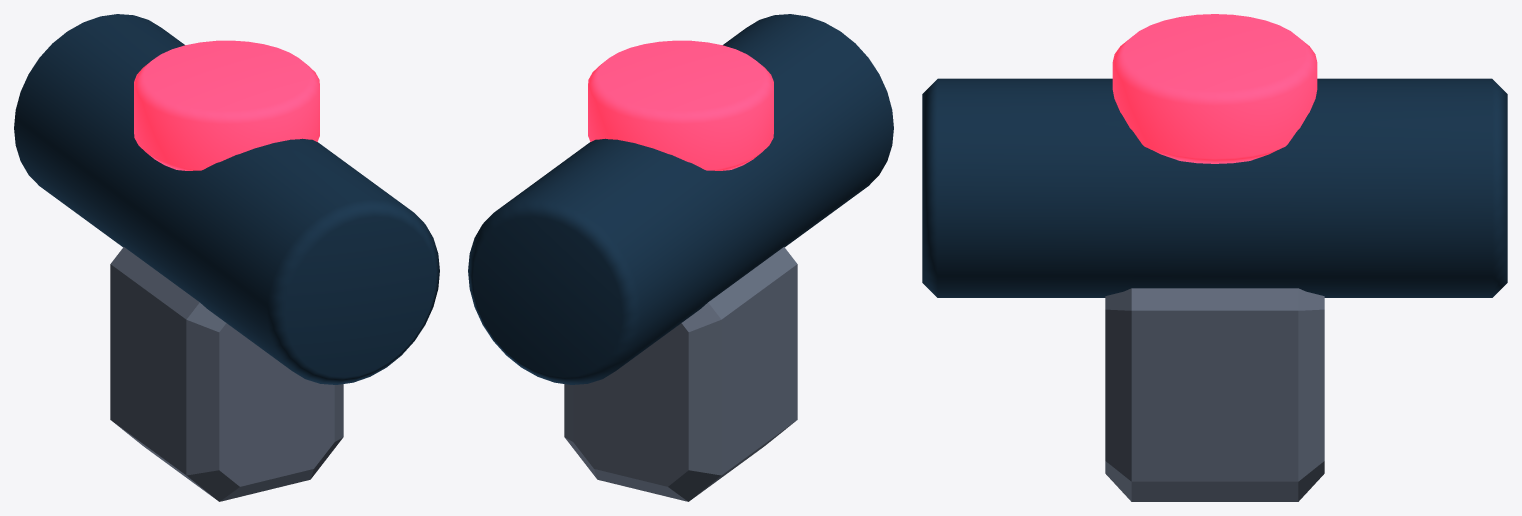
File: tower_filament_optics_s2.glb
The picture shows the model from 3 angles, left to right: view 1: azimuth 30°, elevation 25°; view 2: azimuth 150°, elevation 25°; view 3: azimuth 270°, elevation 25°; orthographic projection. The views are drawn at different scales.
Visible parts, largest first — view 1: filament_sight_glass, filament_sight_mount, filament_up_optics_l2_stud; view 2: filament_sight_glass, filament_sight_mount, filament_up_optics_l2_stud; view 3: filament_sight_glass, filament_sight_mount, filament_up_optics_l2_stud.
Boxes of the visible parts, x1=… form: filament_sight_glass: x1=14, y1=14, x2=439, y2=384; filament_sight_mount: x1=110, y1=247, x2=343, y2=501; filament_up_optics_l2_stud: x1=134, y1=40, x2=319, y2=170; filament_sight_glass: x1=468, y1=14, x2=893, y2=384; filament_sight_mount: x1=564, y1=247, x2=797, y2=501; filament_up_optics_l2_stud: x1=588, y1=40, x2=773, y2=170; filament_sight_glass: x1=922, y1=78, x2=1507, y2=297; filament_sight_mount: x1=1105, y1=288, x2=1324, y2=501; filament_up_optics_l2_stud: x1=1112, y1=14, x2=1317, y2=163.
Bounding box in the file's own units: 0.06 × 0.1282 × 0.16.
